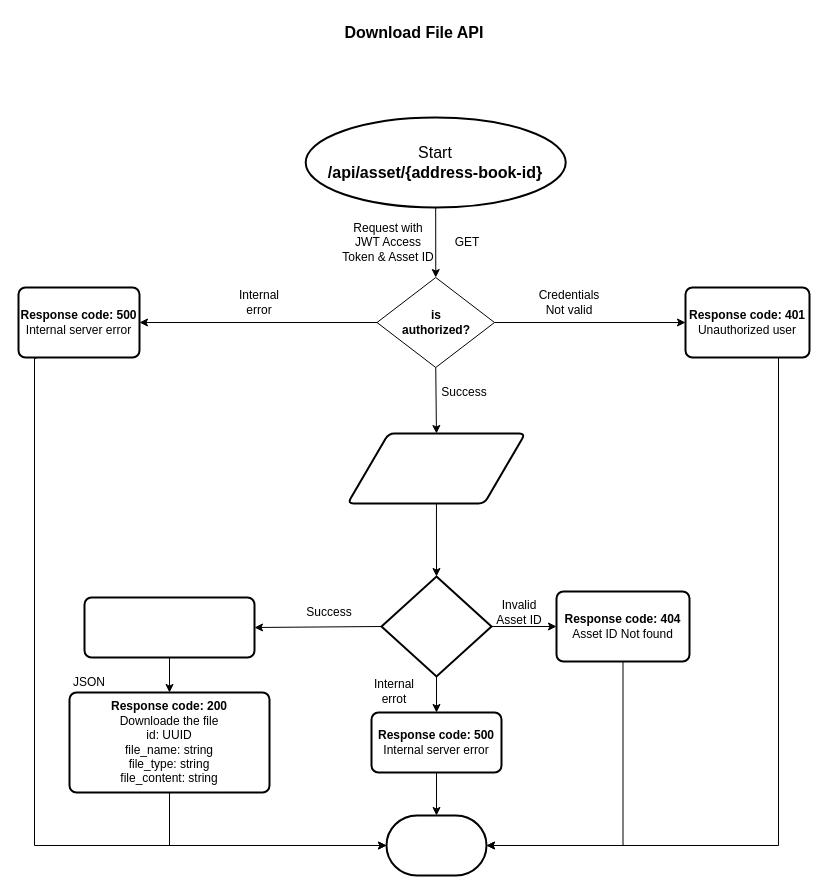
The diagram is 827 pixels wide and 893 high, and some of its shapes have lost their labels. The shapes that lost their labels are listed below. From the top down, each one's box as (x1, y1, x2, y2) in pixels, then its label:
(346, 432, 526, 504): User input Get the UUID of the file to downloade id: UUID
(83, 596, 255, 658): Query Retrieve the details of the file by the asset id
(380, 575, 492, 677): Validate is the ID of the Asset?
(385, 814, 487, 876): Stop
